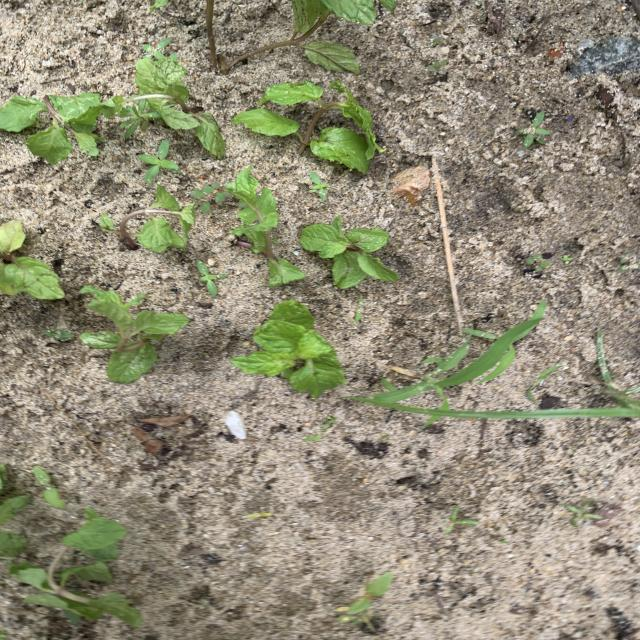crop: (11, 508, 142, 624), (232, 81, 385, 171), (231, 300, 346, 396), (81, 287, 187, 382), (132, 53, 224, 155), (225, 167, 303, 286), (229, 1, 360, 71), (1, 94, 105, 163), (300, 215, 398, 287), (99, 185, 194, 251), (1, 220, 63, 298), (1, 464, 29, 522), (34, 466, 65, 508)
weed: (351, 301, 640, 445), (337, 572, 392, 631), (139, 140, 179, 181), (421, 341, 469, 373), (566, 501, 619, 526), (518, 111, 551, 146), (197, 260, 227, 295), (191, 183, 227, 210), (442, 506, 476, 534), (141, 38, 171, 59), (310, 172, 329, 199), (44, 329, 72, 339), (428, 60, 447, 74), (150, 1, 167, 11), (560, 256, 571, 263)
